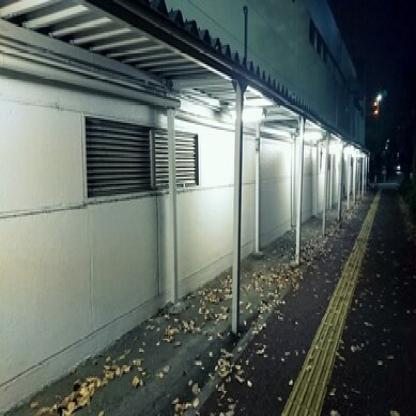podotacti: (268, 152, 408, 416)
